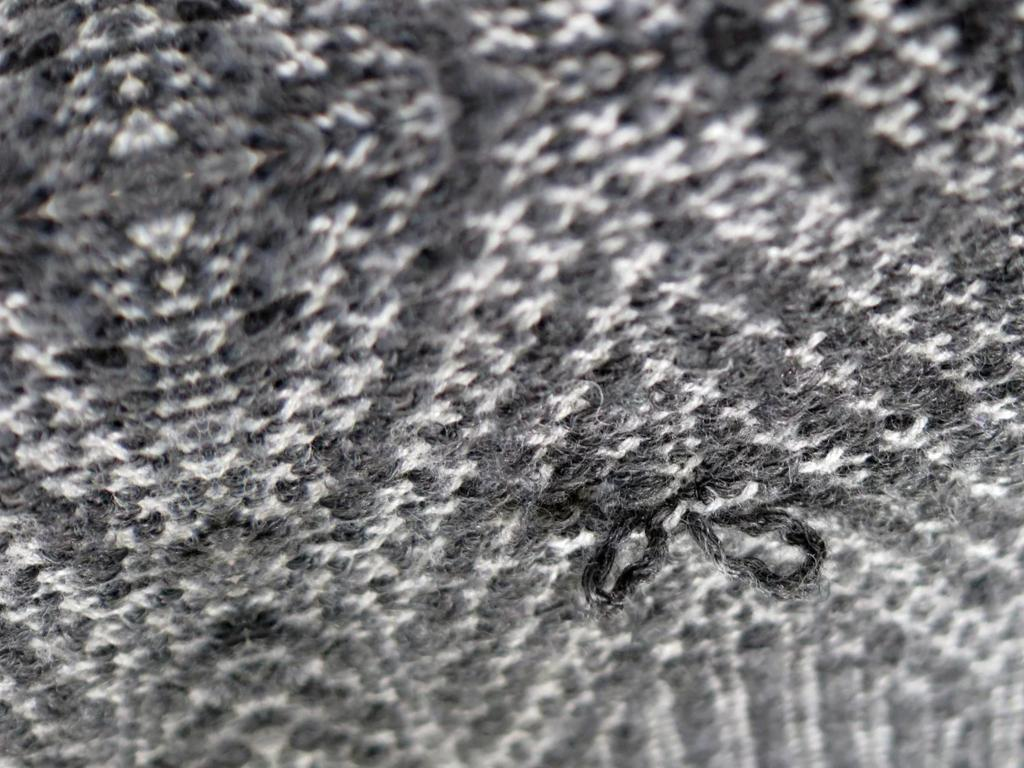snag: (684, 498, 845, 605), (581, 507, 667, 617)
